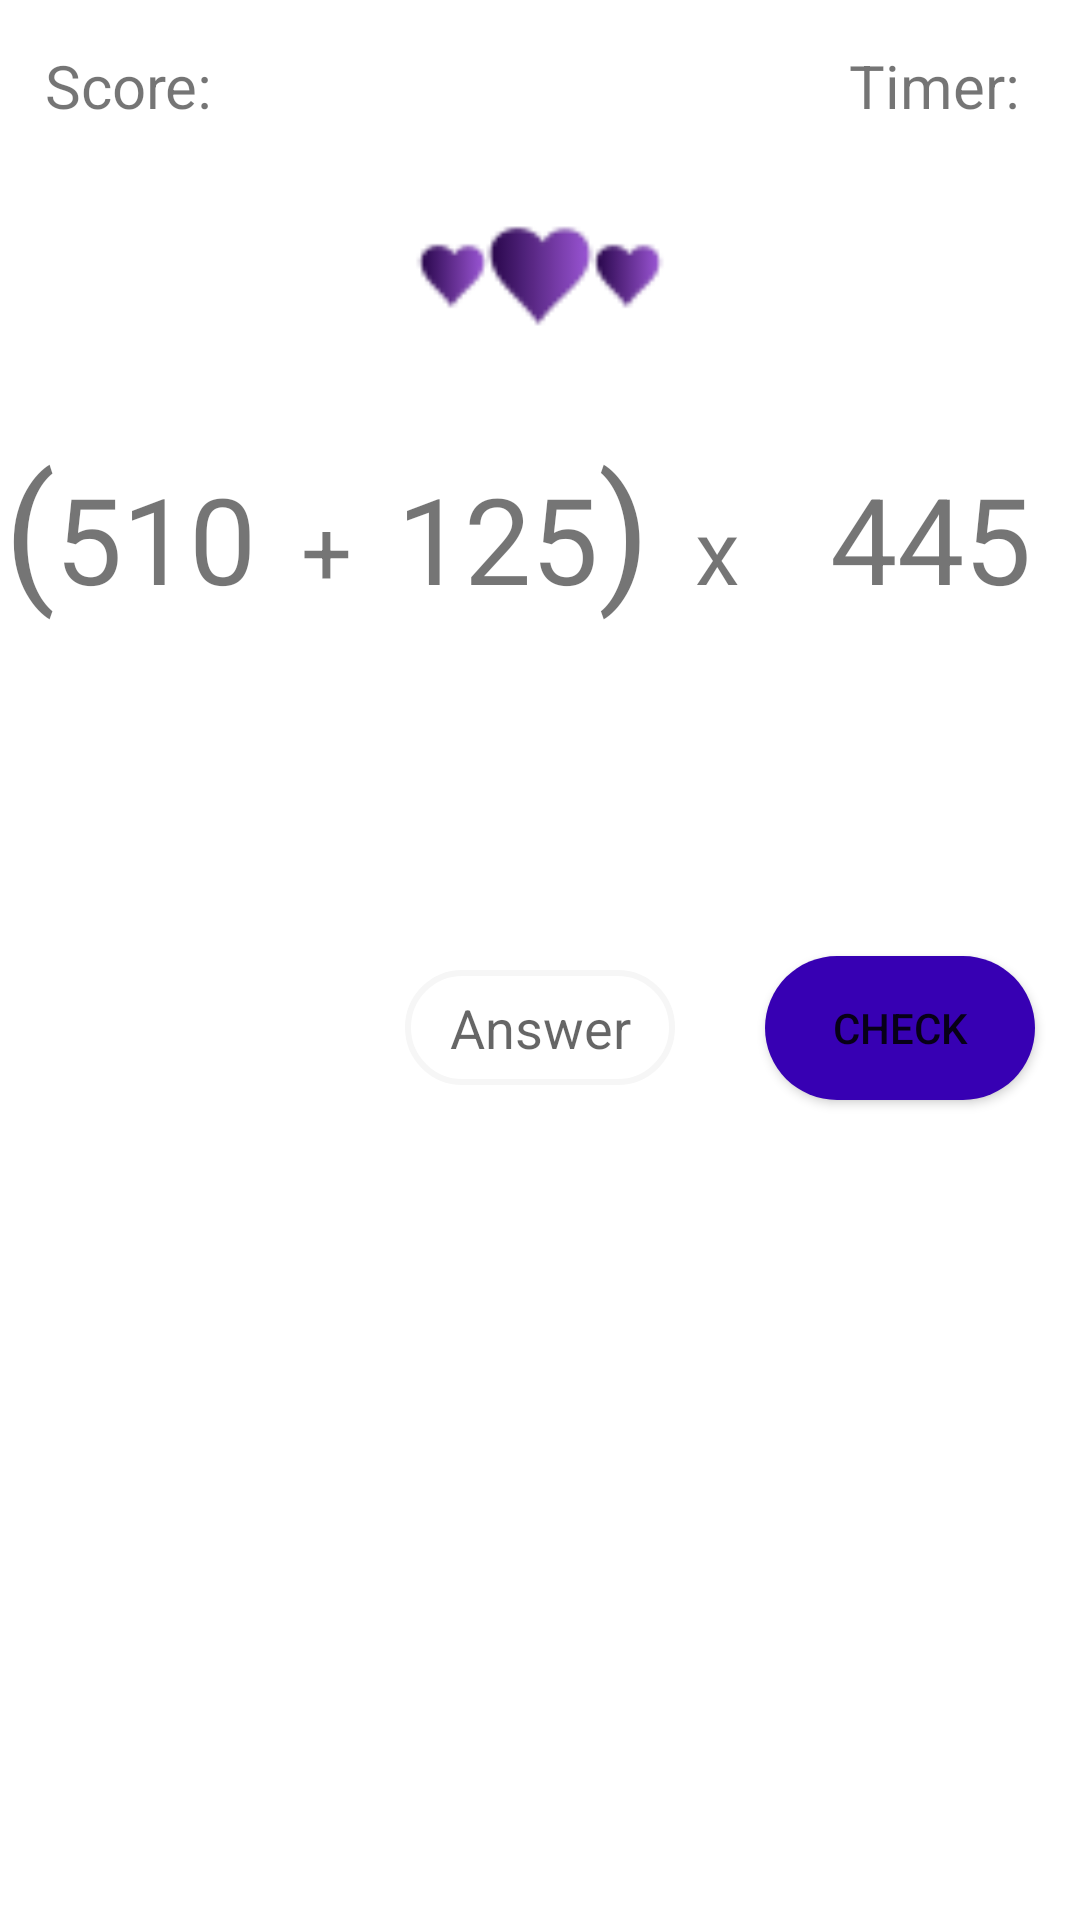

Icons on this 1080px x 1920px Android screen, each with its box as (x1, y1, x2, y2):
three live: (418, 226, 662, 325)
